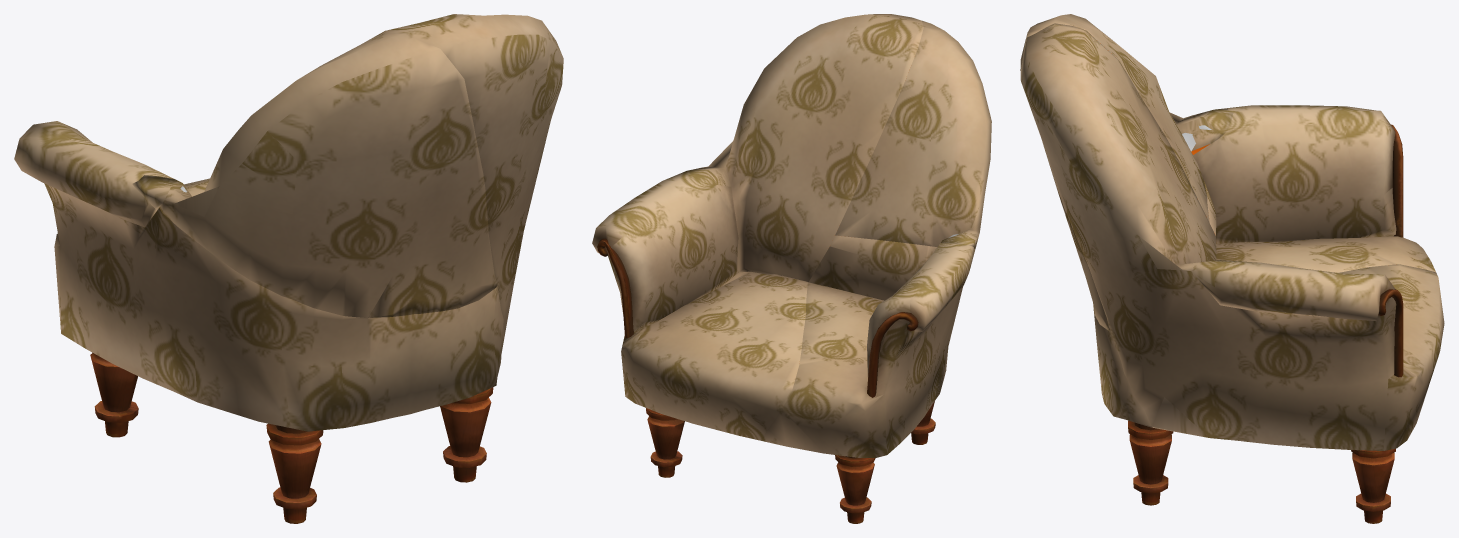
Rendered from fauteuil_shatter.fbx.
3 renders of one model, left to right at view 1: azimuth 30°, elevation 25°; view 2: azimuth 150°, elevation 25°; view 3: azimuth 270°, elevation 25°, orthographic. The views are drawn at different scales.
Parts seen in each view (by area): view 1: Pieces_2, Pieces_1, Pieces_3, lowp_1_1; view 2: Pieces_3, Pieces_2, Pieces_1, lowp_1_1, lowp_1; view 3: Pieces_3, Pieces_2, Pieces_1, lowp_1_1, lowp_1.
Boxes of the visible parts, x1,y1,x2,y2 form: Pieces_2: (14, 121, 504, 431); Pieces_1: (132, 33, 497, 317); Pieces_3: (184, 14, 563, 359); lowp_1_1: (90, 352, 493, 523); Pieces_3: (592, 14, 923, 440); Pieces_2: (760, 234, 975, 457); Pieces_1: (835, 20, 991, 248); lowp_1_1: (835, 312, 935, 523); lowp_1: (597, 238, 684, 477); Pieces_3: (1020, 23, 1444, 450); Pieces_2: (1093, 105, 1435, 427); Pieces_1: (1020, 14, 1233, 331); lowp_1_1: (1128, 124, 1403, 505); lowp_1: (1351, 289, 1403, 523).
Bounding box in the file's own units: 43.95 × 47.27 × 42.08.
3 materials, 1 textured.
